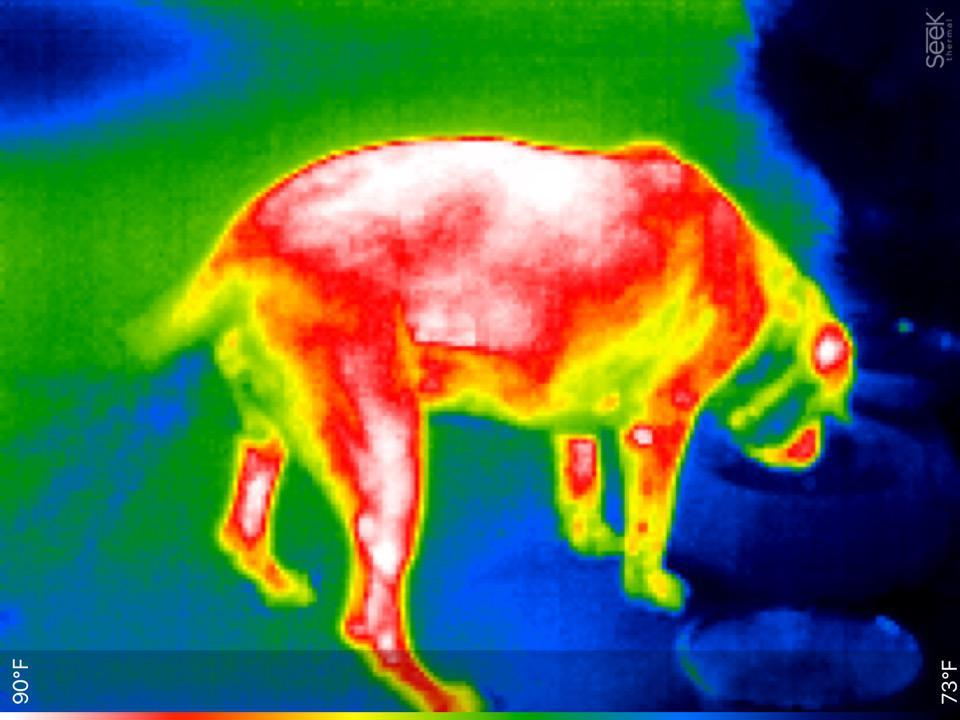dog: (145, 129, 868, 711)
